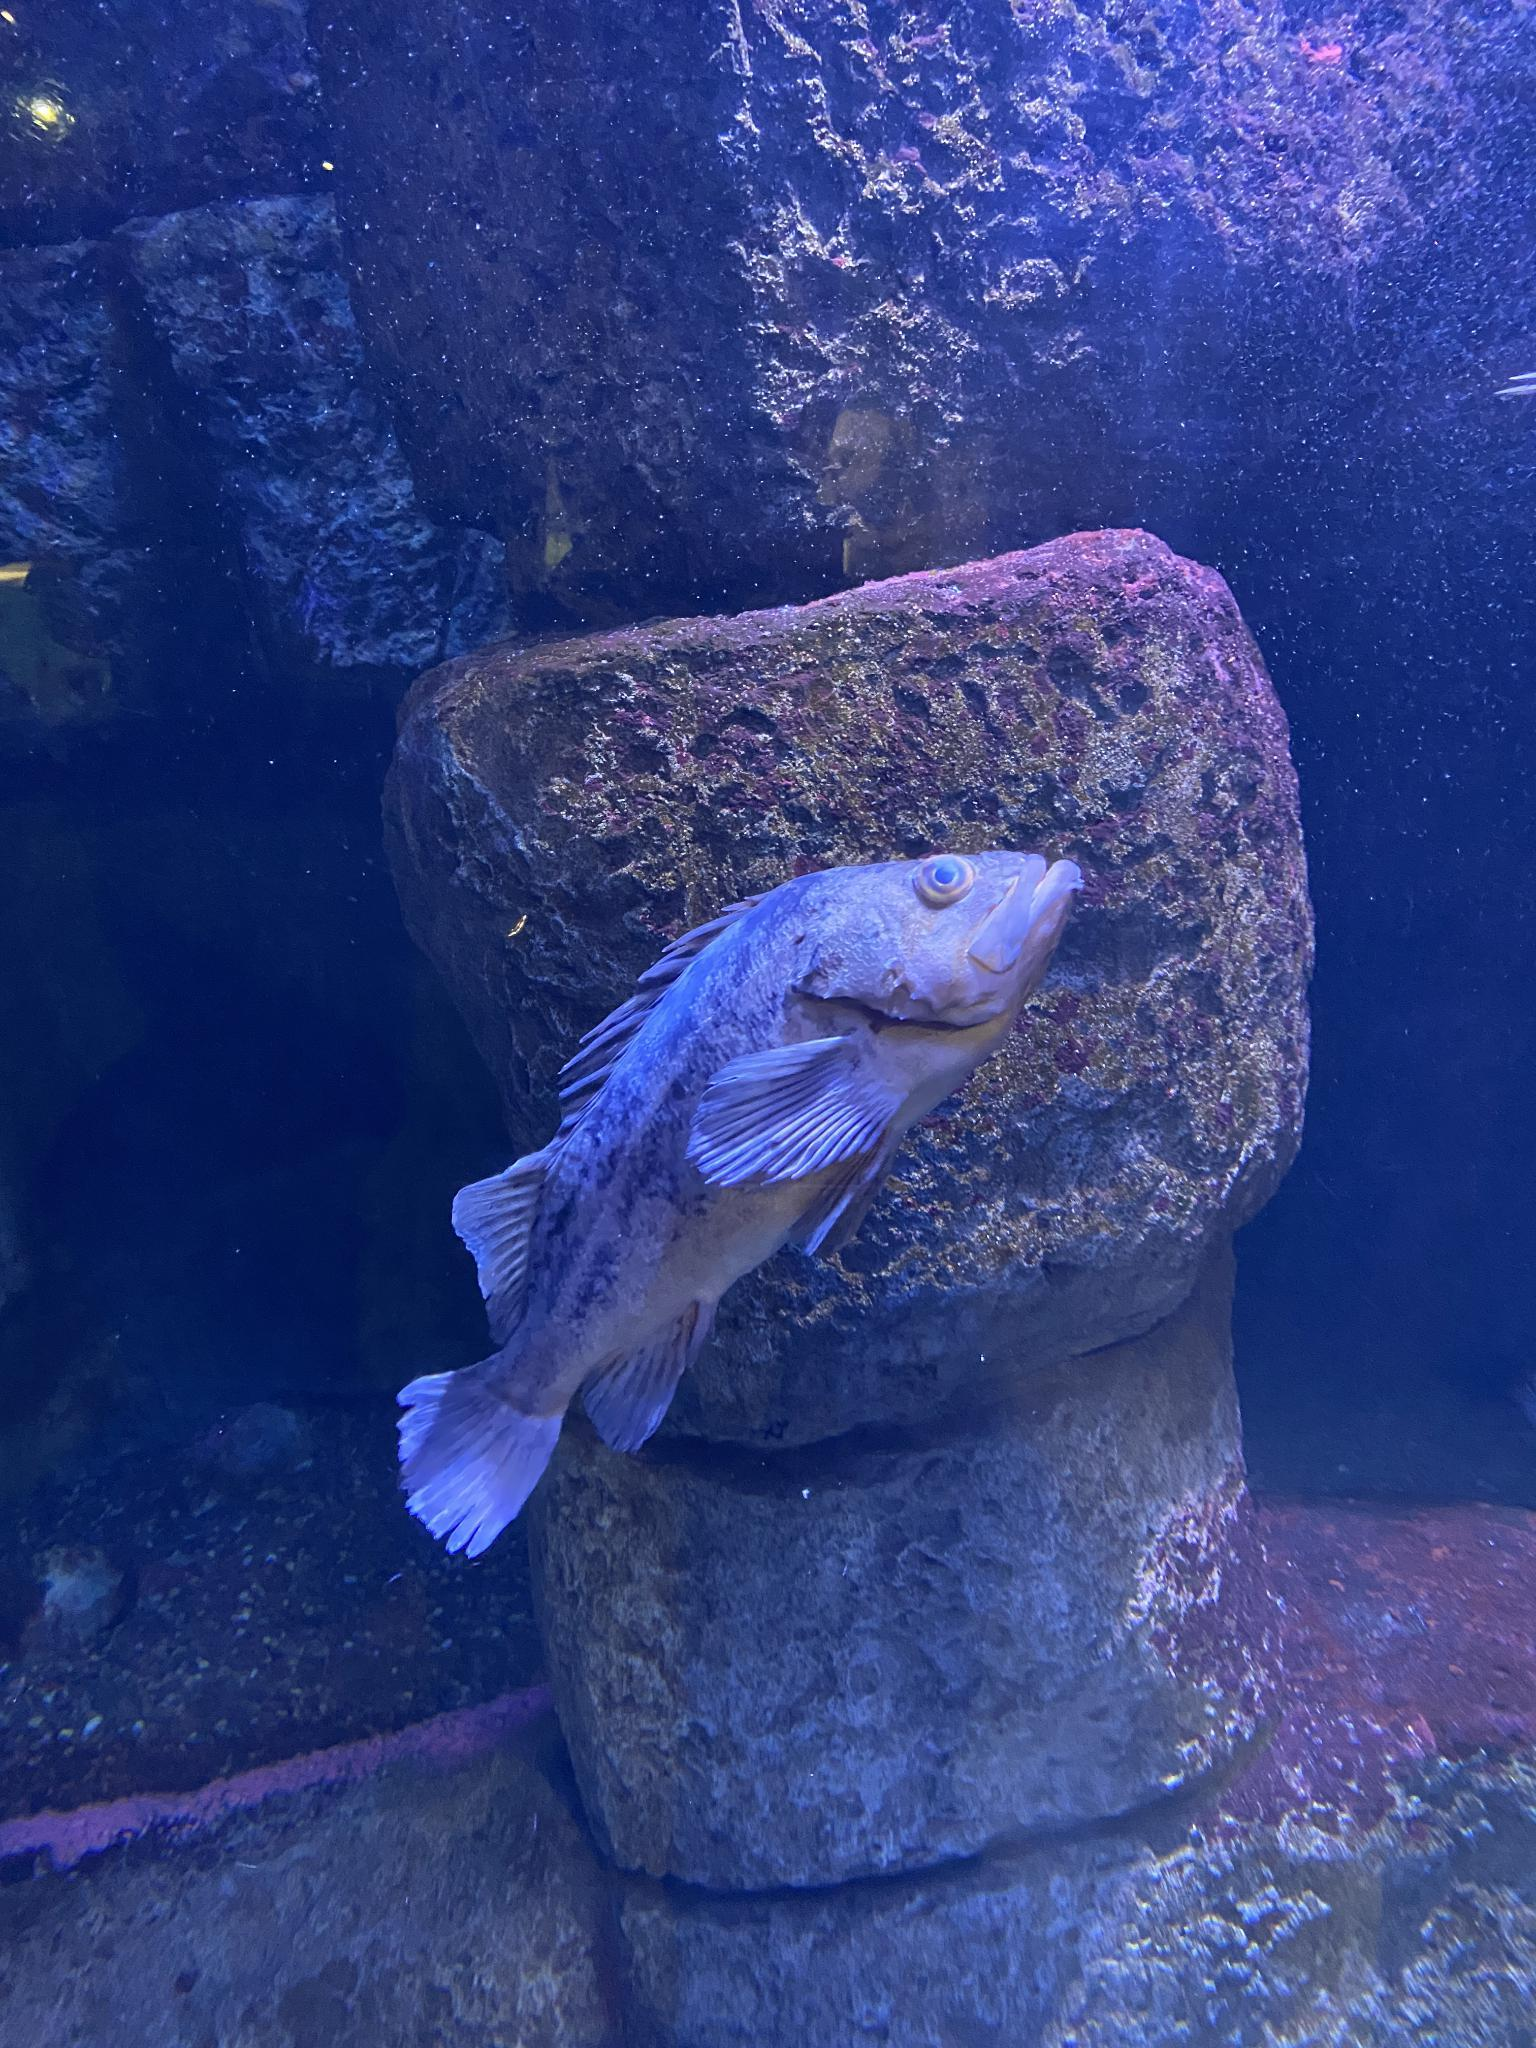fish: (397, 848, 1079, 1553)
